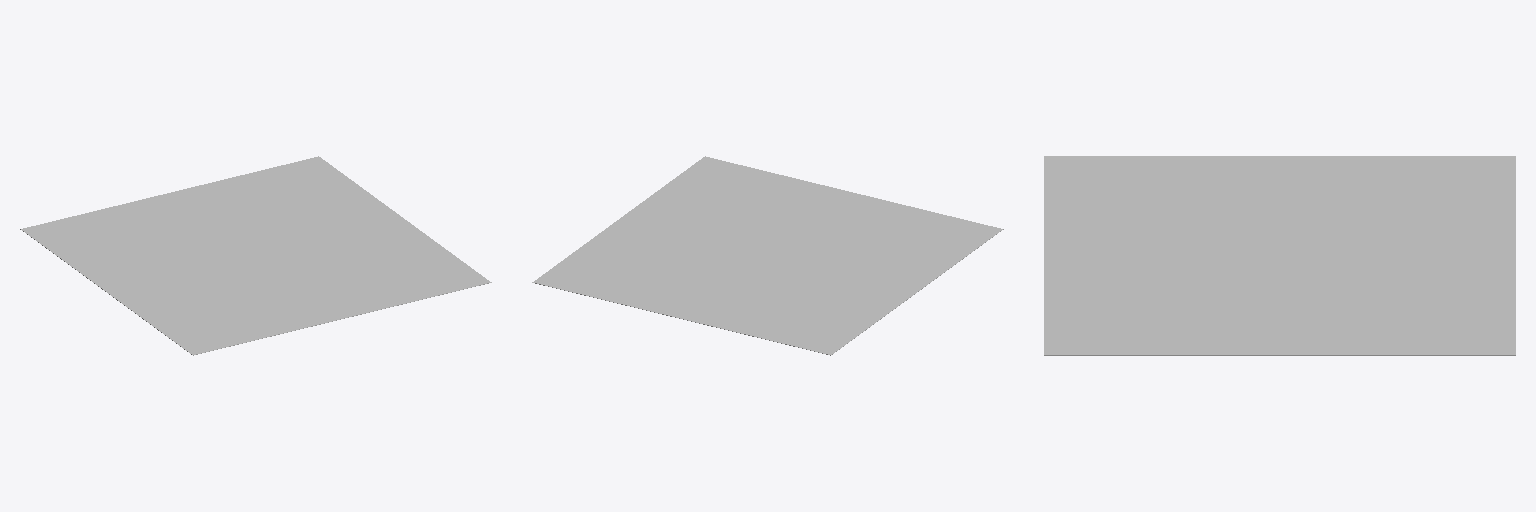
robot.urdf — ground:
<robot name="ground">
  <link name="world"/>
  <link name="ground_link">
    <inertial>
      <mass value="100.0"/>
      <origin xyz="0 0 0" rpy="0 0 0"/>
      <inertia ixx="1.0" ixy="0" ixz="0" iyy="1.0" iyz="0" izz="1.0"/>
    </inertial>
    <visual>
      <origin xyz="0 0 -0.025" rpy="0 0 0"/>
      <material name="color">
        <color rgba="0.8 0.8 0.8 1"/>
      </material>
      <geometry>
        <box size="50.0 50.0 0.05"/>
      </geometry>
    </visual>
    <collision>
      <origin xyz="0 0 -0.025" rpy="0 0 0"/>
      <geometry>
        <box size="50.0 50.0 0.05"/>
      </geometry>
      <contact_coefficients mu="1.0" kp="1.0" kd="1.0"/>
    </collision>
  </link>
  <joint name="ground_joint" type="fixed">
    <origin xyz="0 0 0" rpy="0 0 0"/>
    <parent link="world"/>
    <child link="ground_link"/>
  </joint>
</robot>

--- Render facts (derived) ---
Views: 3 orthographic renders of the robot side by side, from view 1: azimuth 30°, elevation 25°; view 2: azimuth 150°, elevation 25°; view 3: azimuth 270°, elevation 25°.
Robot: ground — 2 links, 1 joints (1 fixed); root link world; default pose: all joints at 0.
Visible links, largest first — view 1: ground_link; view 2: ground_link; view 3: ground_link.
Link boxes in pixels (left/top/right/bottom): ground_link: left=20, top=156, right=491, bottom=355; ground_link: left=532, top=156, right=1003, bottom=355; ground_link: left=1044, top=156, right=1515, bottom=355.
Size in the robot's own frame: 50 by 50 by 0.05 metres.
Geometry: primitives only (box / cylinder / sphere), no mesh files.
